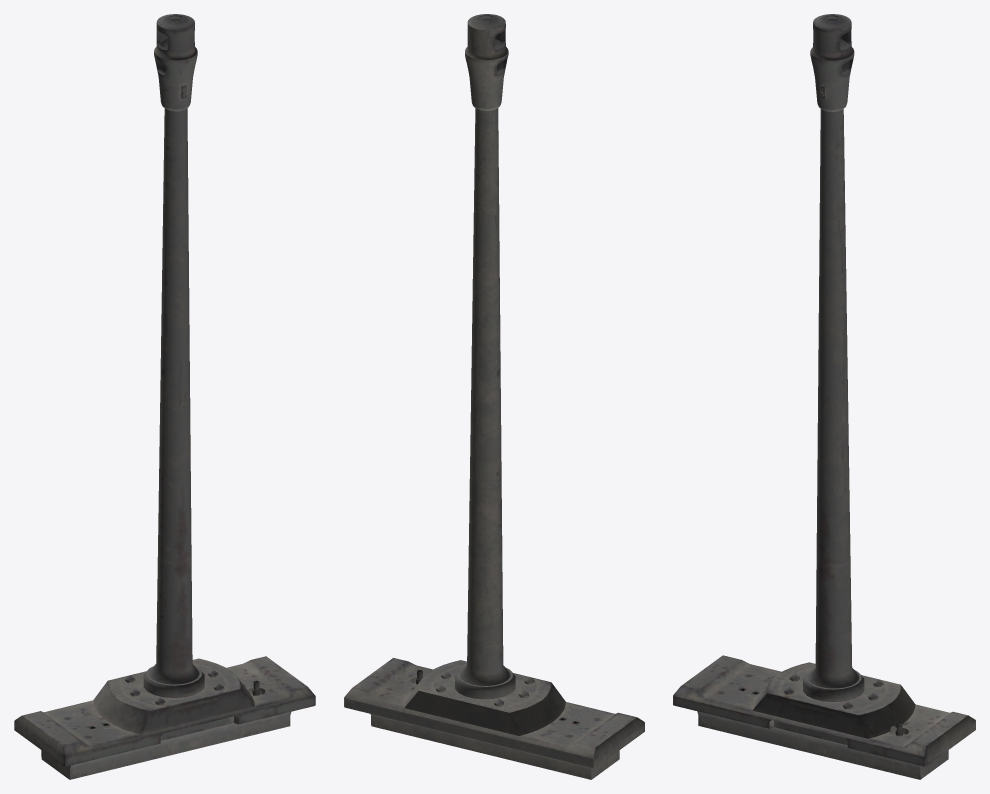
Rendered from Gun_03.glb.
3 views of the same model, side by side, from view 1: azimuth 30°, elevation 25°; view 2: azimuth 150°, elevation 25°; view 3: azimuth 330°, elevation 25° (orthographic).
Parts seen in each view (by area): view 1: set_0_group_0; view 2: set_0_group_0; view 3: set_0_group_0.
Part boxes in pixels (x1,y1,x2,y2): set_0_group_0: [14, 14, 315, 779]; set_0_group_0: [344, 14, 644, 779]; set_0_group_0: [673, 14, 975, 779].
Bounding box in the file's own units: 1.6 × 4.4 × 0.5606.
Materials: 1 (1 with a texture image).
